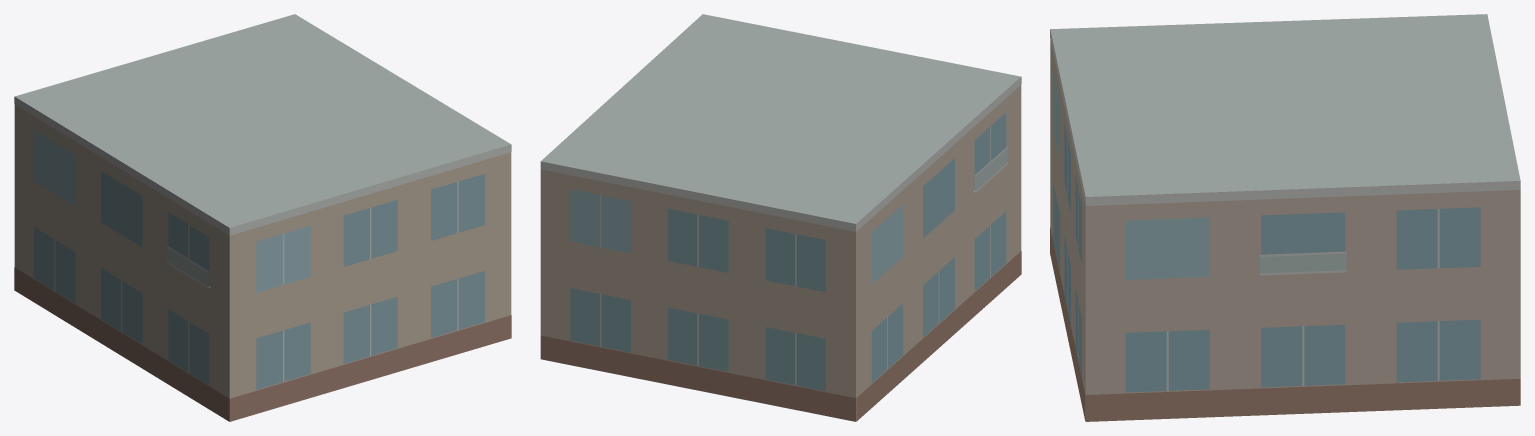
The model's file is survey-upis-32757687.glb.
3 renders of one model, left to right at view 1: azimuth 30°, elevation 25°; view 2: azimuth 150°, elevation 25°; view 3: azimuth 270°, elevation 25°, orthographic. The views are drawn at different scales.
Parts seen in each view (by area): view 1: survey-upis-32757687.tmp; view 2: survey-upis-32757687.tmp; view 3: survey-upis-32757687.tmp.
Boxes of the visible parts, <box> form: survey-upis-32757687.tmp: <box>14,14,511,421</box>; survey-upis-32757687.tmp: <box>540,14,1021,421</box>; survey-upis-32757687.tmp: <box>1050,14,1520,421</box>.
Bounding box in the file's own units: 10.66 × 6.1 × 11.58.
